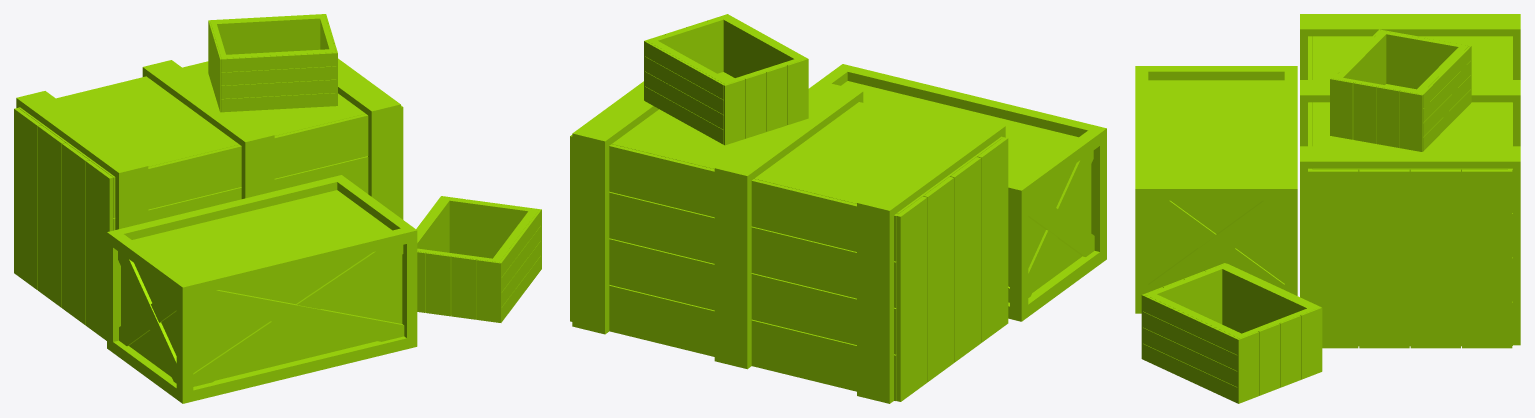
3 renders of one model, left to right at view 1: azimuth 30°, elevation 25°; view 2: azimuth 150°, elevation 25°; view 3: azimuth 270°, elevation 25°, orthographic. The views are drawn at different scales.
Visible parts, largest first — view 1: box3_03_l; view 2: box3_03_l; view 3: box3_03_l.
Boxes of the visible parts, bbox=[...] form: box3_03_l: bbox=[14, 14, 541, 403]; box3_03_l: bbox=[570, 14, 1106, 403]; box3_03_l: bbox=[1135, 14, 1520, 403].
Bounding box in the file's own units: 517 × 272 × 395.
